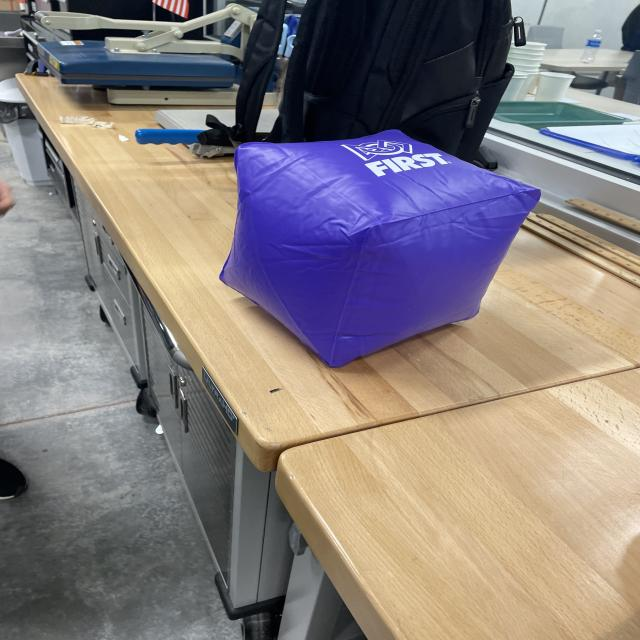frc_cube: (217, 124, 546, 366)
